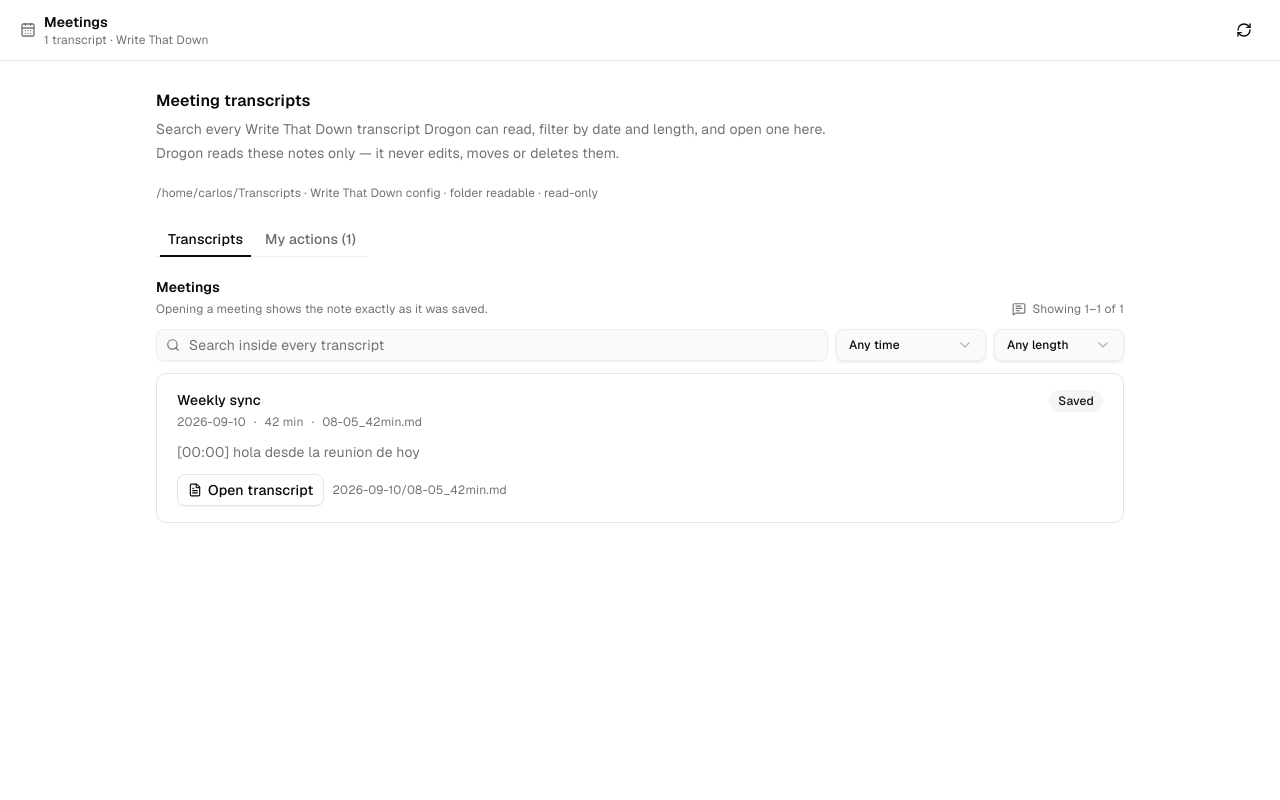
Test: Meetings page list and reader › will not send a custom range it cannot mean
Expected: the heading "Weekly sync" is shown, 177,391 -> 261,409
Click the dropdown named "Meeting date" at (911, 345), box 836,329 -> 986,361
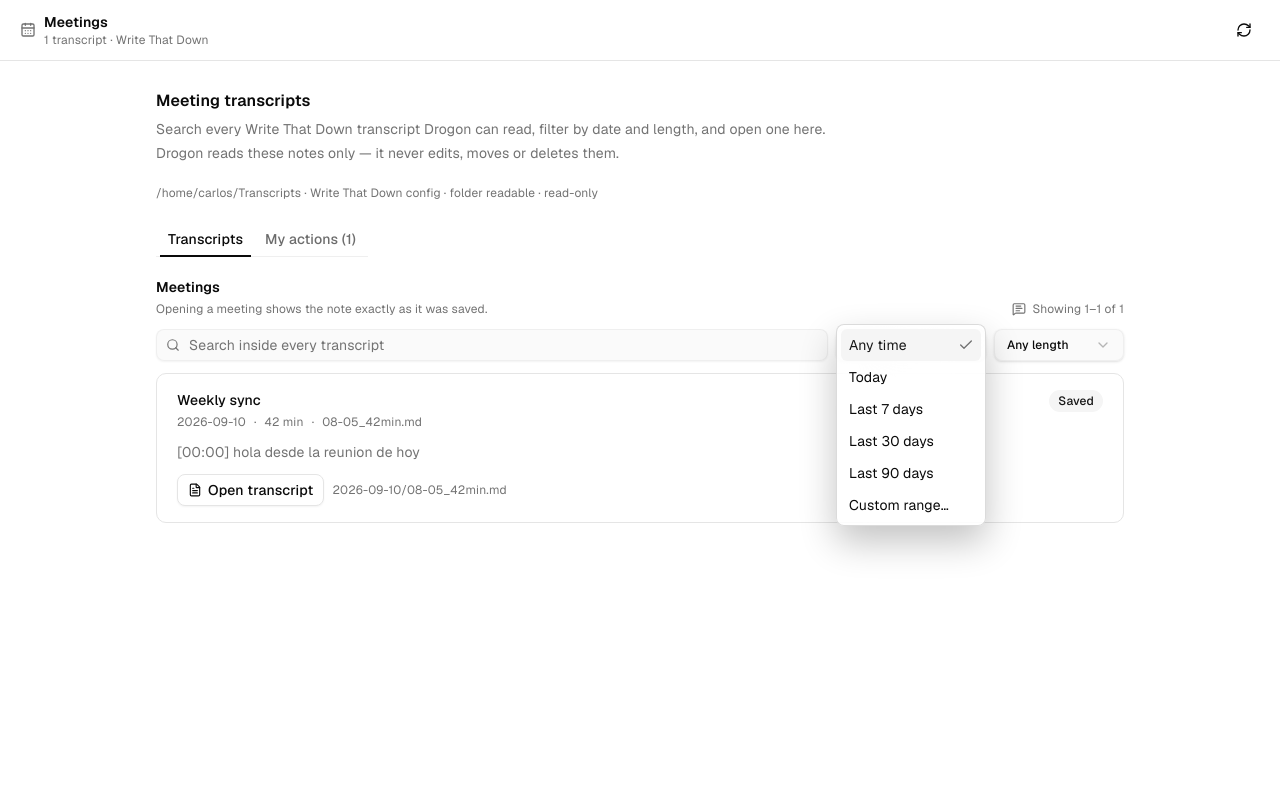
Click the option "Custom range…" at (899, 505), box 849,496 -> 949,514
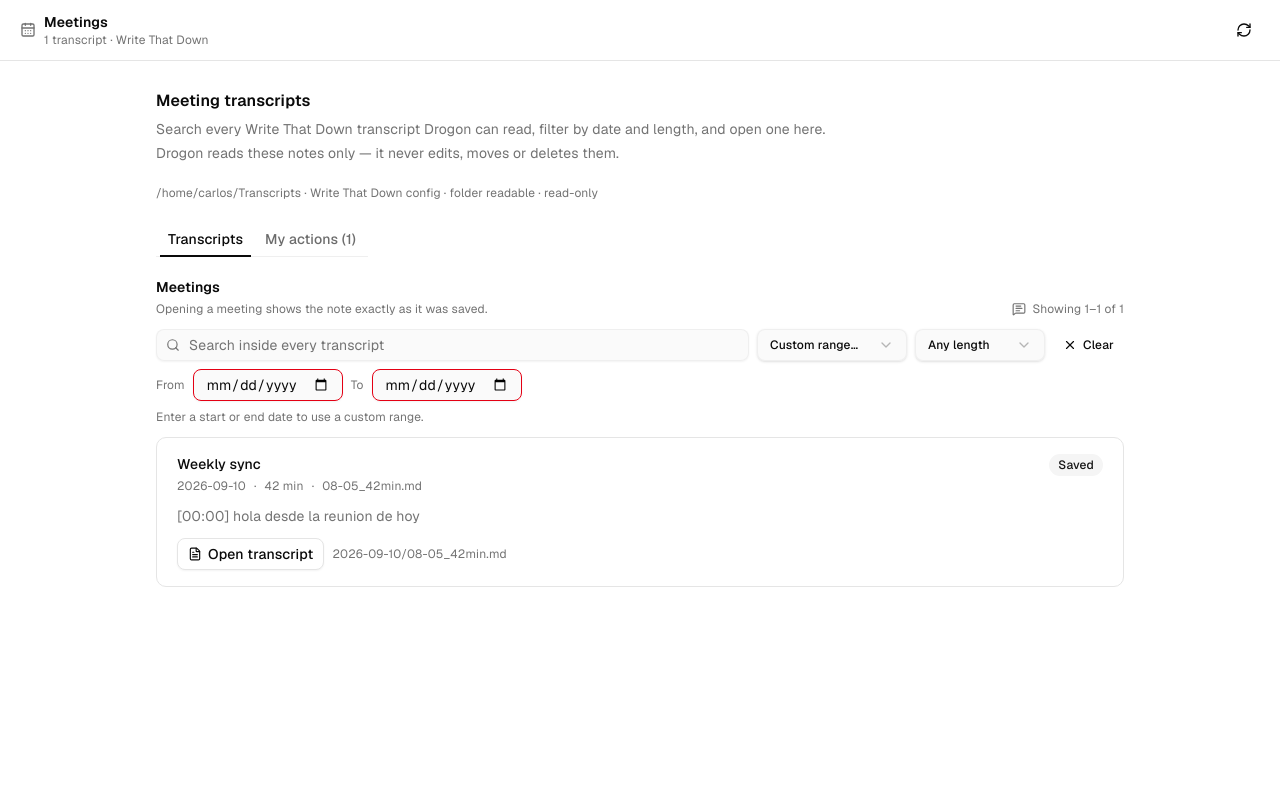
Type "2026-09-10" into the date field named "Meetings from date" at (268, 385), box 193,369 -> 343,401
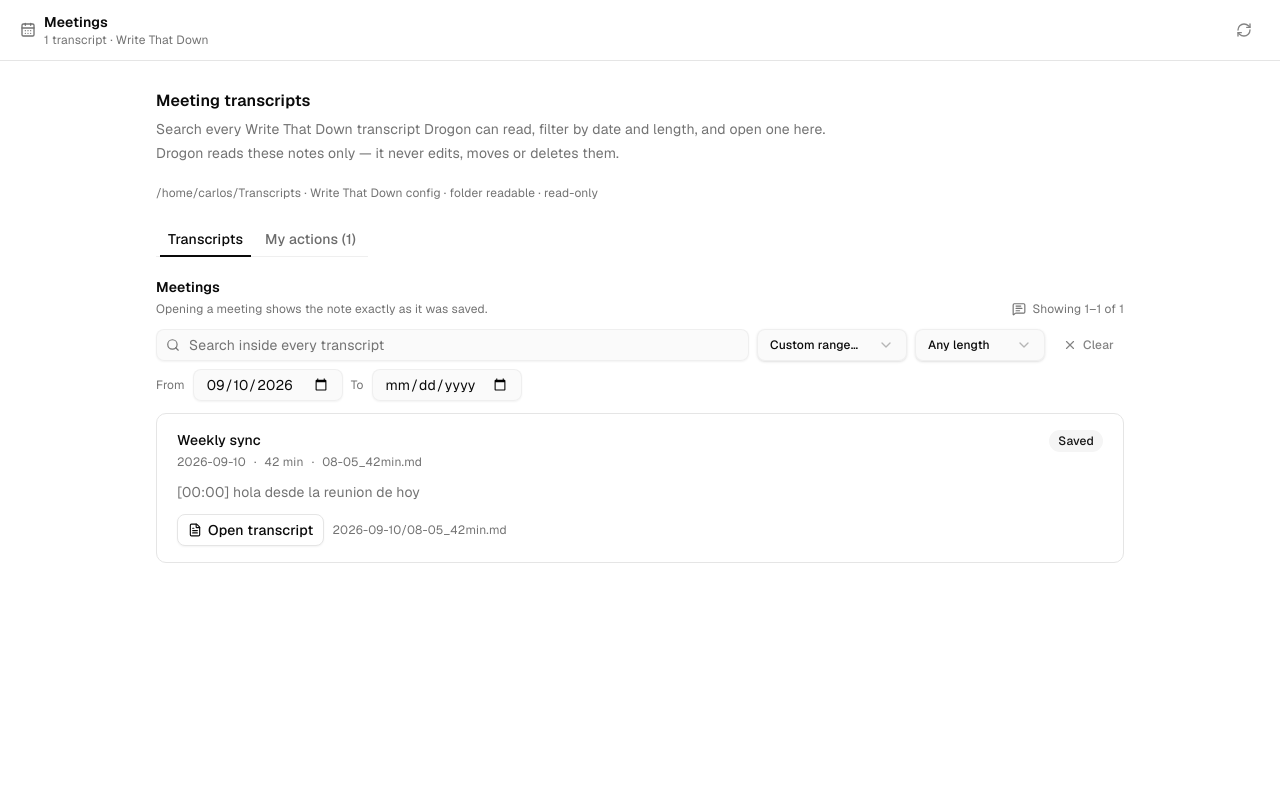
Type "2026-09-01" into the date field named "Meetings to date" at (447, 385), box 372,369 -> 522,401
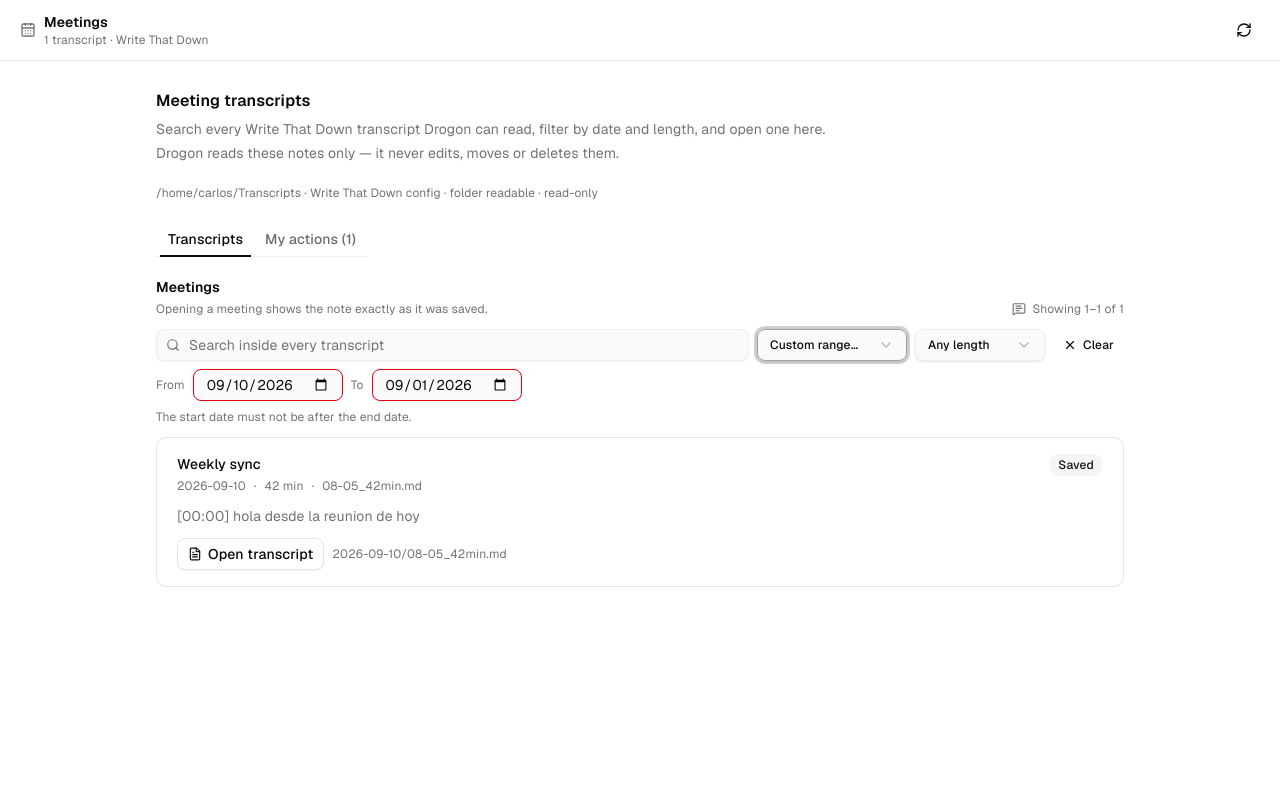
Expected: the text "The start date must not be after the end date." is shown, 156,409 -> 411,425
